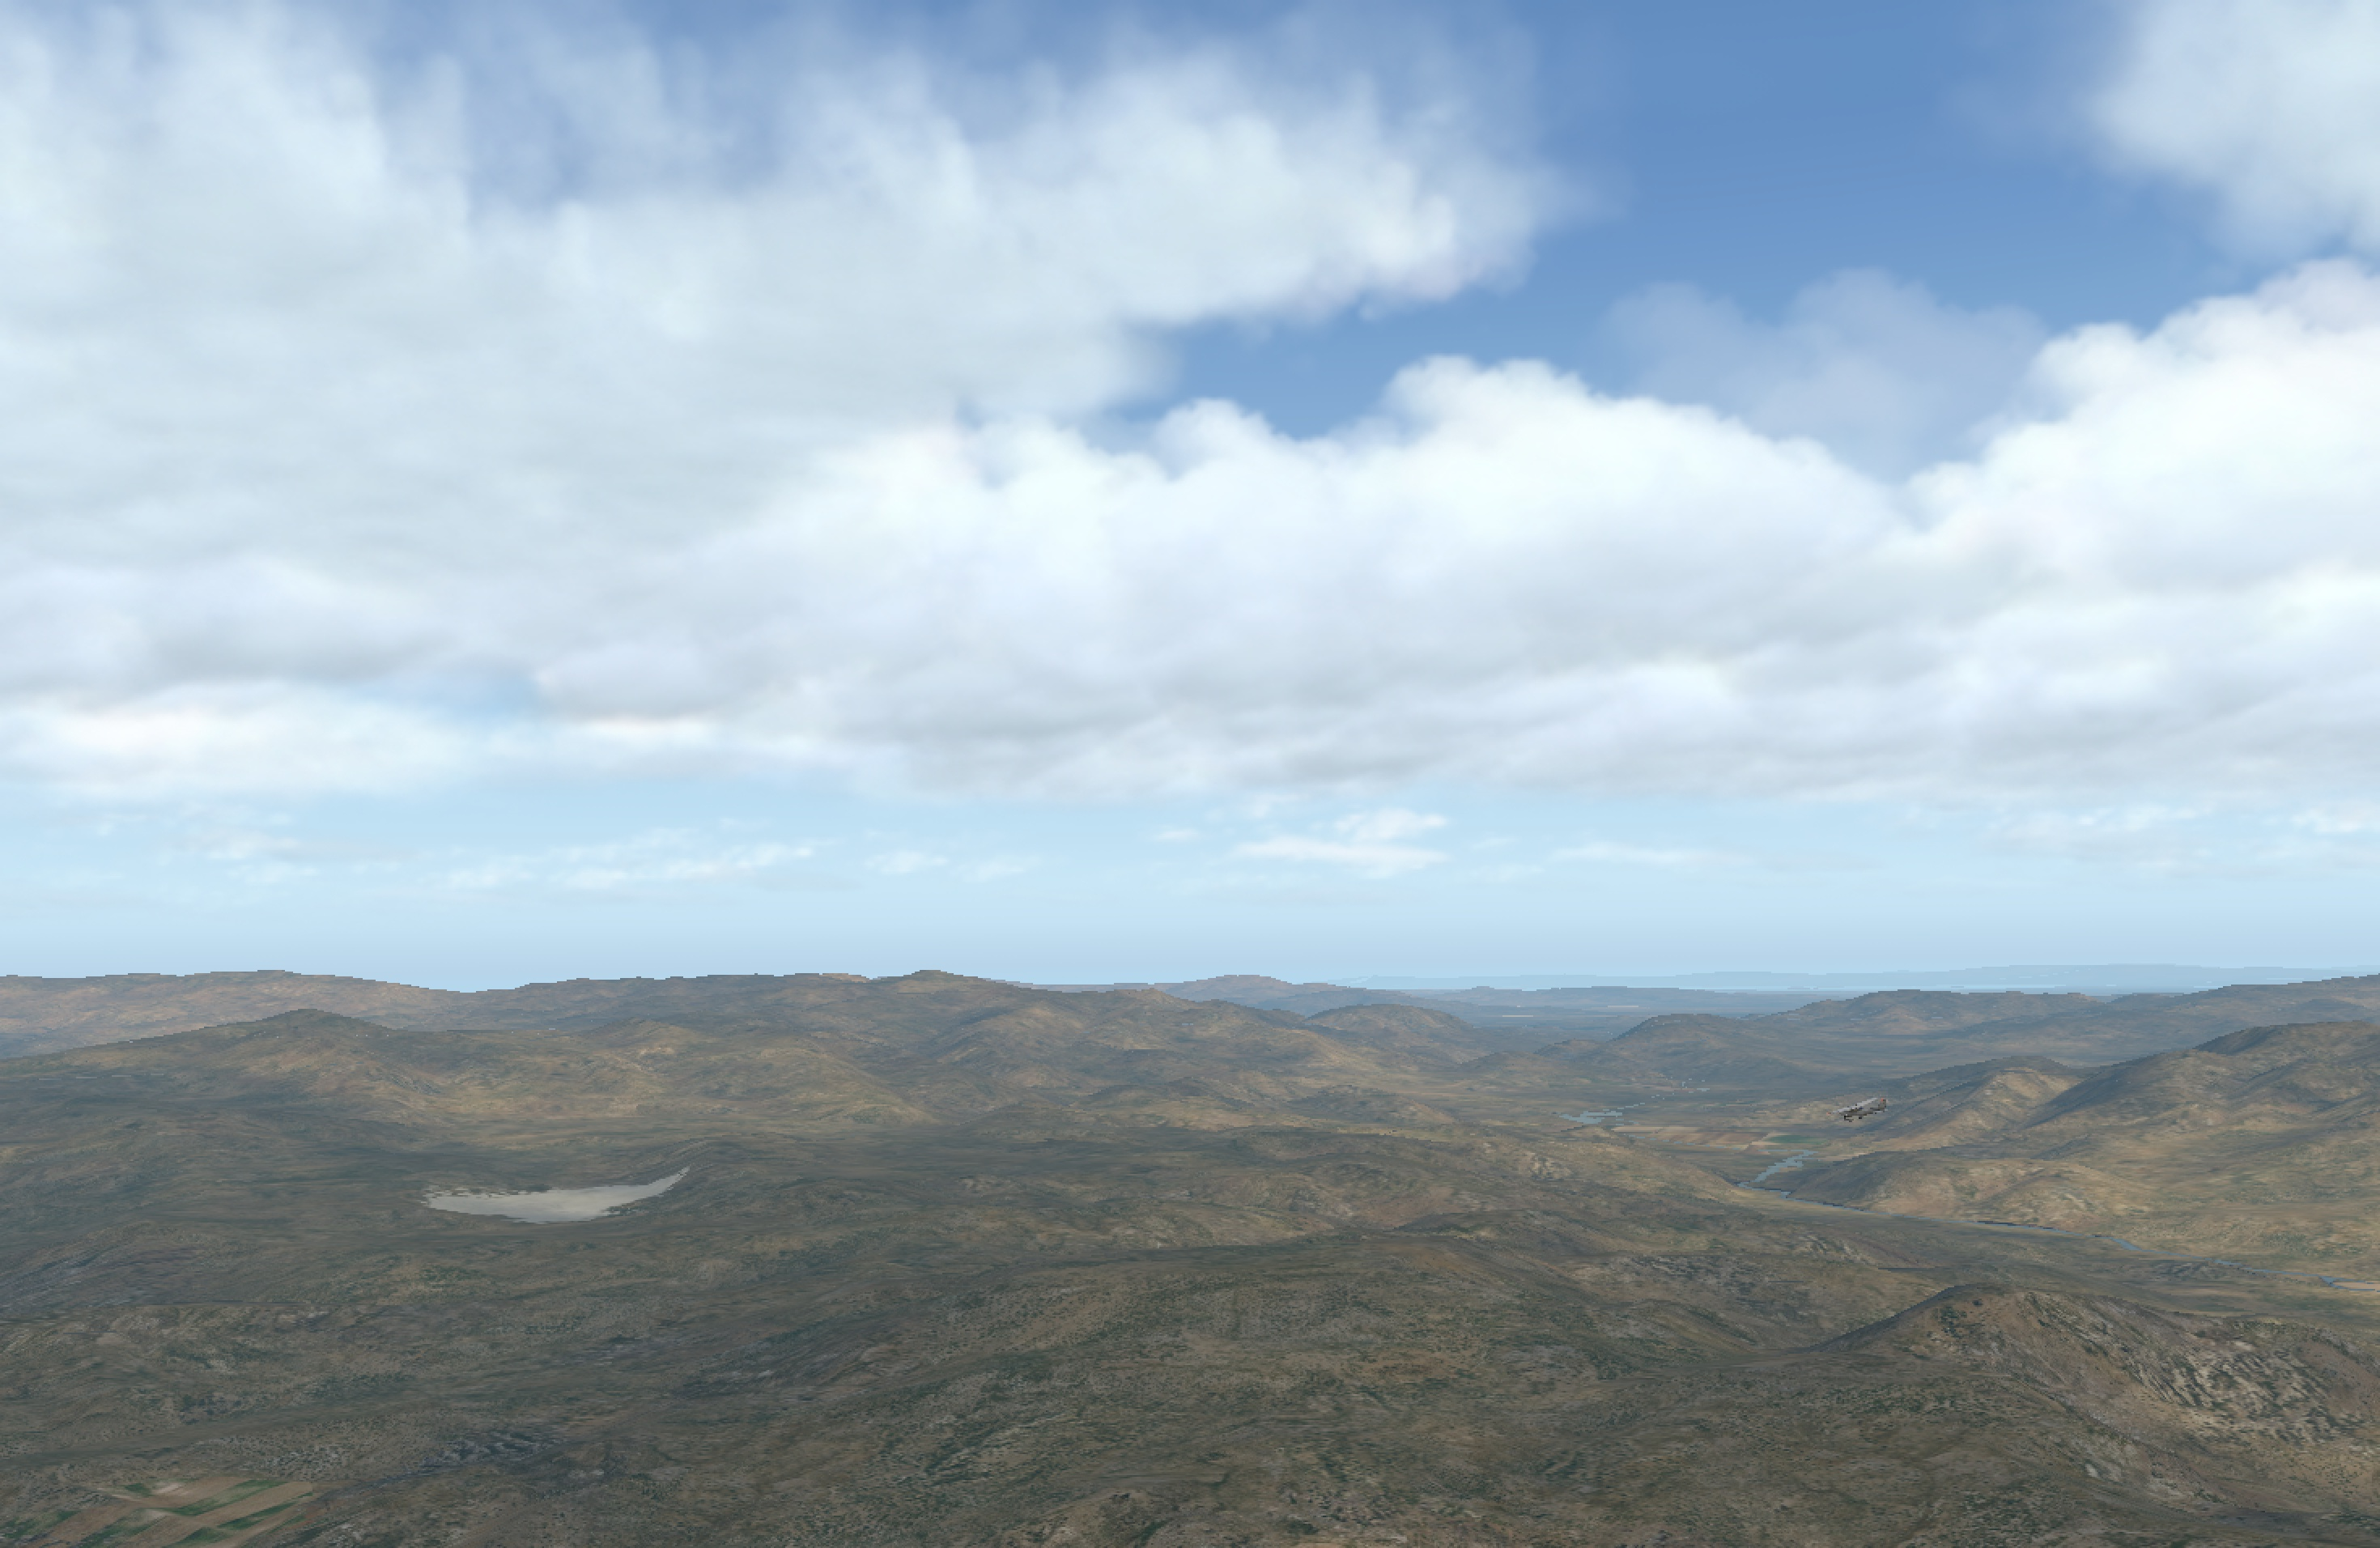aircraft: (1827, 1100, 1879, 1121)
